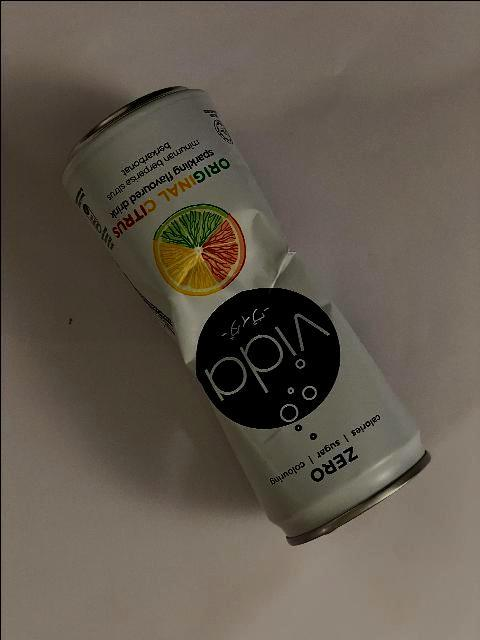drinkcan: (58, 81, 432, 546)
